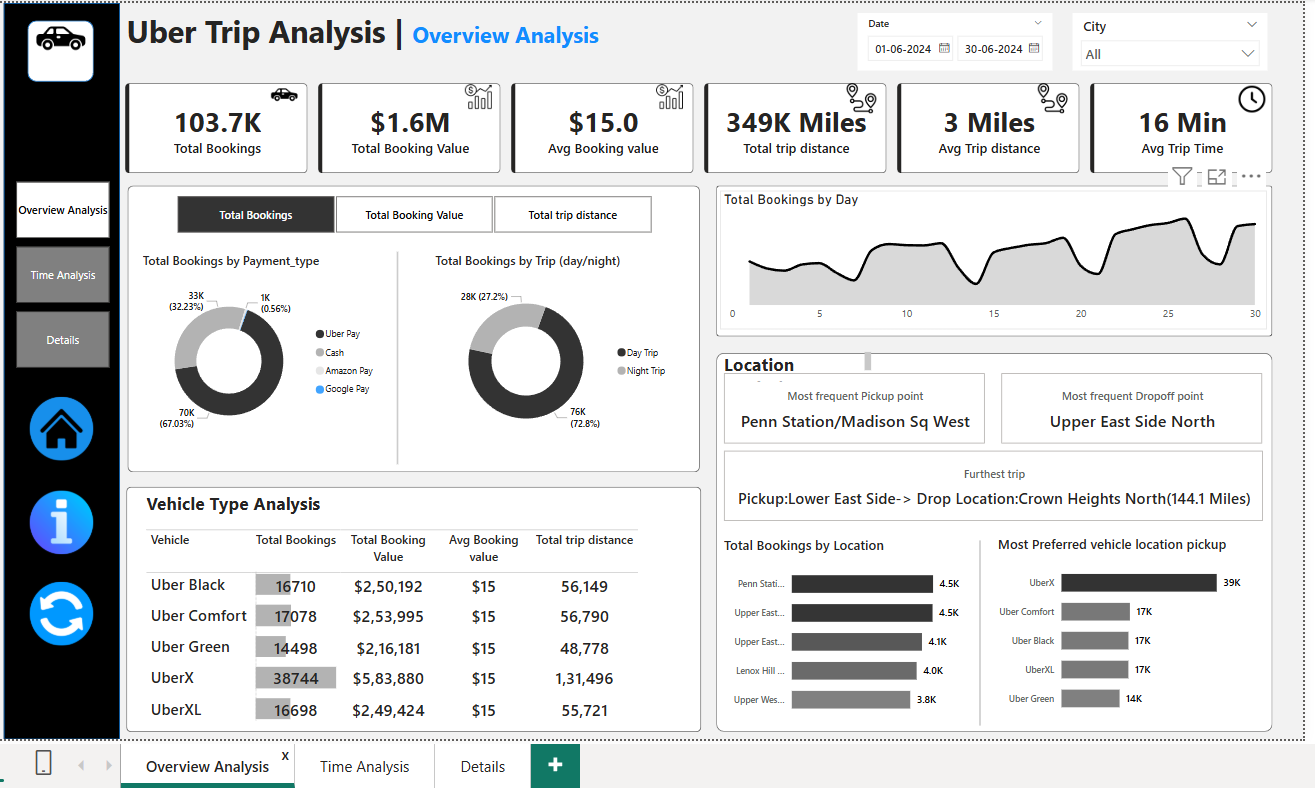

What the dashboard file says about the page in this screenshot:
{"tool":"powerbi","page":{"name":"Overview Analysis","canvas":[1600,900],"ordinal":0},"visuals":[{"type":"shape","box":[10.3,0,142,900.5],"z":0},{"type":"textbox","box":[156.1,5.1,603.8,63.5],"z":1000},{"type":"cardVisual","fields":{"Data":["Trip Details.Total Bookings","Trip Details.Total Booking Value","Trip Details.Avg Booking value","Trip Details.Total trip distance","Trip Details.Avg Trip distance","Trip Details.Avg Trip Time"]},"box":[154.4,93,1415,120],"z":2000},{"type":"image","box":[543.7,92.6,94.3,42.9],"z":3000},{"type":"image","box":[778.7,92.6,94.3,42.9],"z":4000},{"type":"image","box":[296.7,92.6,114.9,42.9],"z":5000},{"type":"image","box":[1003.4,92.6,113.2,46.3],"z":6000},{"type":"image","box":[1236.7,92.6,113.2,46.3],"z":7000},{"type":"image","box":[1492.3,96.1,90.9,42.9],"z":8000},{"type":"shape","box":[161.5,223.1,700,350.8],"z":9000},{"type":"slicer","fields":{"Values":["Dynamic Measure.Dynamic Measure"]},"box":[196.9,229.2,629.2,58.5],"z":10000},{"type":"donutChart","fields":{"Y":["Trip Details.Total Bookings"],"Category":["Trip Details.Payment_type"]},"box":[175.4,304.6,300,247.7],"z":11000},{"type":"donutChart","fields":{"Y":["Trip Details.Total Bookings"],"Category":["Trip Details.Trip type(day/night)"]},"box":[533.8,304.6,300,247.7],"z":12000},{"type":"shape","box":[881.5,223.1,680,184.6],"z":13000},{"type":"shape","box":[160,592.3,703.1,300],"z":14000},{"type":"pivotTable","fields":{"Rows":["Trip Details.Vehicle"],"Values":["Trip Details.Total Bookings","Trip Details.Total Booking Value","Trip Details.Avg Booking value","Trip Details.Total trip distance Measure"]},"box":[180,638.5,653.8,244.6],"z":15000},{"type":"textbox","box":[180,592.3,235.4,46.2],"z":16000},{"type":"areaChart","fields":{"Category":["Calender Table.Date.Variation.Date Hierarchy.Day"],"Y":["Trip Details.Total Bookings"]},"box":[886.2,229.2,669.2,169.2],"z":17000},{"type":"shape","box":[882,428,680.2,463.1],"z":18000},{"type":"cardVisual","fields":{"Data":["Trip Details.Most frequent pickup point","Trip Details.most frequent dropoff point"]},"box":[886.6,447.9,669.5,96.3],"z":19000},{"type":"cardVisual","fields":{"Data":["Trip Details.Furthest trip"]},"box":[886.6,542.6,669.5,96.3],"z":20000},{"type":"barChart","fields":{"Category":["Location Table.Location"],"Y":["Trip Details.Total Bookings"]},"box":[886.6,651.2,301.1,232.3],"z":21000},{"type":"barChart","title":"Most Preferred vehicle location pickup","fields":{"Category":["Trip Details.Vehicle"],"Y":["CountNonNull(Trip Details.PULocationID)"]},"box":[1221.3,649.6,316.4,232.3],"z":22000},{"type":"shape","box":[440.2,304.2,103.9,259.9],"z":23000},{"type":"shape","box":[1152.5,657.3,103.9,226.2],"z":24000},{"type":"textbox","box":[886.6,421.9,189.5,45.9],"z":25000},{"type":"slicer","fields":{"Values":["Calender Table.Date"]},"box":[1054.7,12.2,238.5,70.3],"z":26000},{"type":"slicer","fields":{"Values":["Location Table.City"]},"box":[1317.6,12.2,238.5,70.3],"z":27000},{"type":"shape","box":[39.7,21.4,81,74.9],"z":28000,"group":"g1"},{"type":"pageNavigator","box":[26,218.6,114.6,229.3],"z":28000},{"type":"image","box":[39.7,12.2,81,70.3],"z":29000,"group":"g1"},{"type":"group","id":"g1","title":"Group 1","box":[39.7,12.2,81,84.1],"z":29000},{"type":"image","box":[32.1,476.9,97.8,87.1],"z":30000},{"type":"image","box":[32.1,591.5,97.8,87.1],"z":31000},{"type":"image","box":[32.1,703.1,97.8,87],"z":33000}]}

Visuals, with their boxes on the page's 1600x900 design canvas (x1, y1, x2, y2). These are canvas units, not pixel positions in the 1315x788 screenshot, which may show the page scaled, cropped or inside an application window:
shape: <region>10, 0, 152, 900</region>
textbox: <region>156, 5, 760, 69</region>
cardVisual - Trip Details.Total Bookings x Trip Details.Total Booking Value: <region>154, 93, 1569, 213</region>
image: <region>544, 93, 638, 136</region>
image: <region>779, 93, 873, 136</region>
image: <region>297, 93, 412, 136</region>
image: <region>1003, 93, 1117, 139</region>
image: <region>1237, 93, 1350, 139</region>
image: <region>1492, 96, 1583, 139</region>
shape: <region>162, 223, 862, 574</region>
slicer - Dynamic Measure.Dynamic Measure: <region>197, 229, 826, 288</region>
donutChart - Trip Details.Total Bookings x Trip Details.Payment_type: <region>175, 305, 475, 552</region>
donutChart - Trip Details.Total Bookings x Trip Details.Trip type(day/night): <region>534, 305, 834, 552</region>
shape: <region>882, 223, 1562, 408</region>
shape: <region>160, 592, 863, 892</region>
pivotTable - Trip Details.Vehicle x Trip Details.Total Bookings: <region>180, 638, 834, 883</region>
textbox: <region>180, 592, 415, 638</region>
areaChart - Calender Table.Date.Variation.Date Hierarchy.Day x Trip Details.Total Bookings: <region>886, 229, 1555, 398</region>
shape: <region>882, 428, 1562, 891</region>
cardVisual - Trip Details.Most frequent pickup point x Trip Details.most frequent dropoff point: <region>887, 448, 1556, 544</region>
cardVisual - Trip Details.Furthest trip: <region>887, 543, 1556, 639</region>
barChart - Location Table.Location x Trip Details.Total Bookings: <region>887, 651, 1188, 884</region>
"Most Preferred vehicle location pickup" barChart: <region>1221, 650, 1538, 882</region>
shape: <region>440, 304, 544, 564</region>
shape: <region>1152, 657, 1256, 884</region>
textbox: <region>887, 422, 1076, 468</region>
slicer - Calender Table.Date: <region>1055, 12, 1293, 82</region>
slicer - Location Table.City: <region>1318, 12, 1556, 82</region>
shape: <region>40, 21, 121, 96</region>
pageNavigator: <region>26, 219, 141, 448</region>
image: <region>40, 12, 121, 82</region>
"Group 1" group: <region>40, 12, 121, 96</region>
image: <region>32, 477, 130, 564</region>
image: <region>32, 592, 130, 679</region>
image: <region>32, 703, 130, 790</region>
